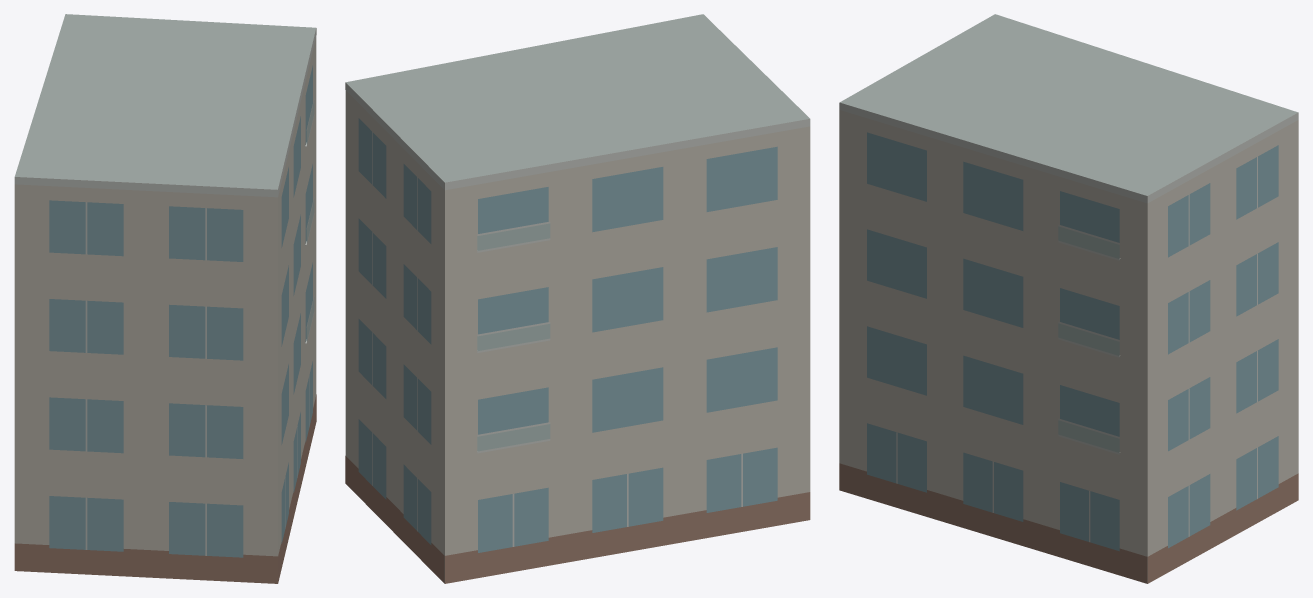
The model's file is survey-upis-32943084.glb.
The picture shows the model from 3 angles, left to right: view 1: azimuth 30°, elevation 25°; view 2: azimuth 150°, elevation 25°; view 3: azimuth 270°, elevation 25°; orthographic projection. The views are drawn at different scales.
Visible parts, largest first — view 1: survey-upis-32943084.tmp; view 2: survey-upis-32943084.tmp; view 3: survey-upis-32943084.tmp.
Boxes of the visible parts, bbox=[...] form: survey-upis-32943084.tmp: bbox=[14, 14, 316, 583]; survey-upis-32943084.tmp: bbox=[345, 14, 810, 583]; survey-upis-32943084.tmp: bbox=[839, 14, 1298, 583].
Bounding box in the file's own units: 12.9 × 12.8 × 13.74.
